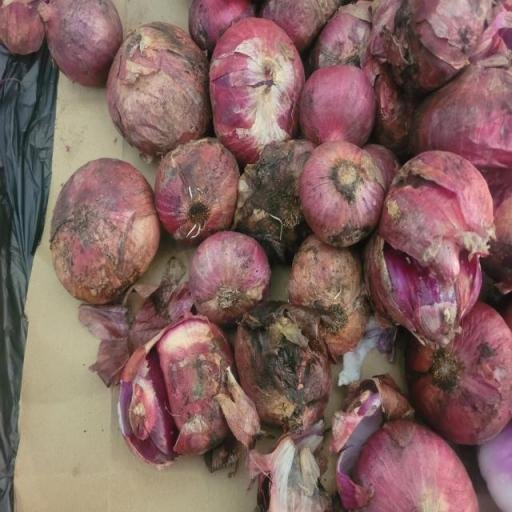damaged: (377, 147, 489, 346), (108, 316, 242, 474)
